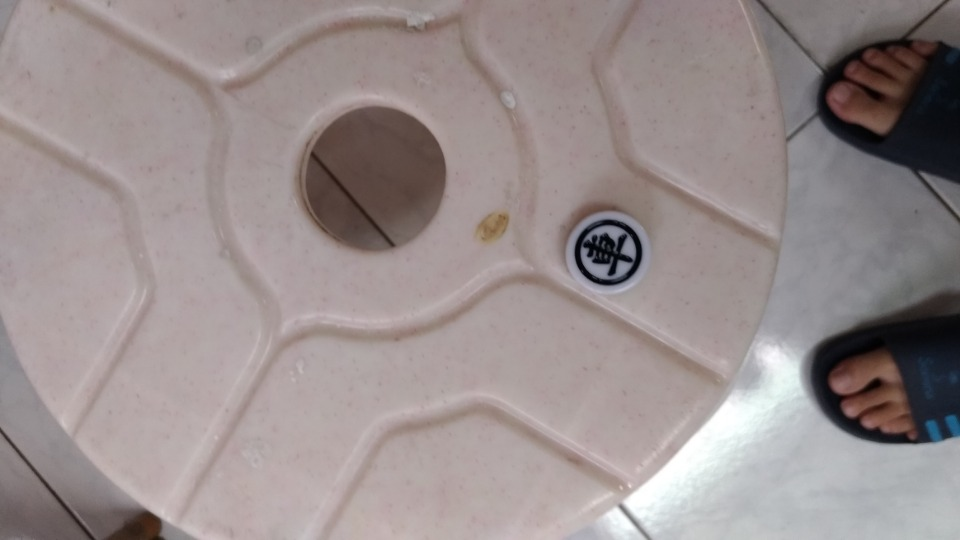b-king: (557, 197, 670, 315)
